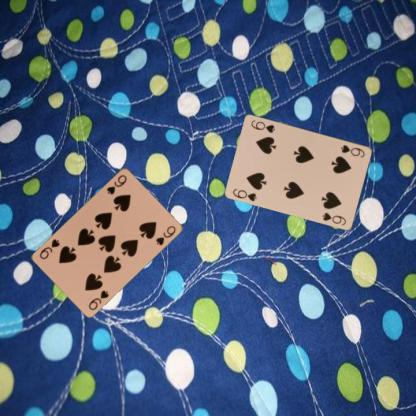6s: (339, 142, 366, 158), (231, 186, 258, 202)
9s: (104, 171, 128, 196), (86, 287, 110, 312)
